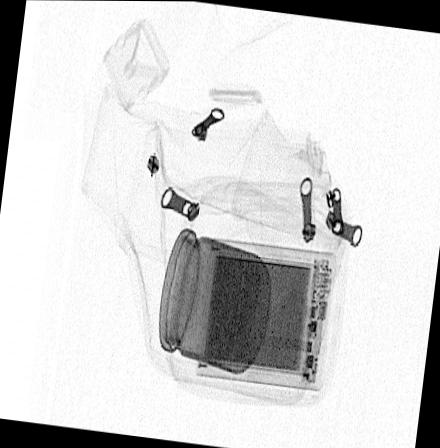Powerbank: (195, 237, 337, 392)
